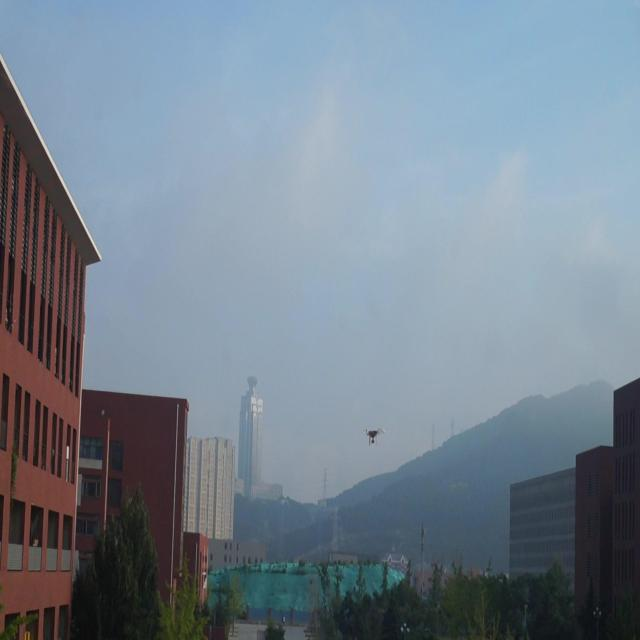drone: (362, 424, 386, 446)
